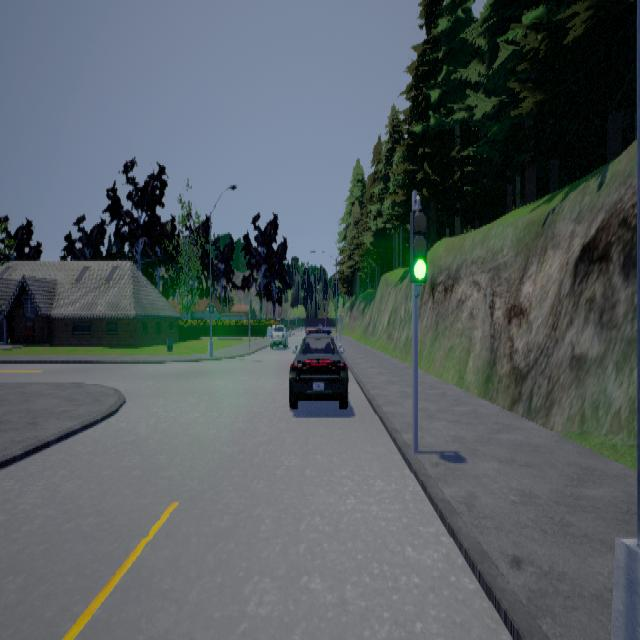green_light: (409, 194, 426, 296)
vehicle: (288, 323, 348, 408), (268, 323, 288, 349)
